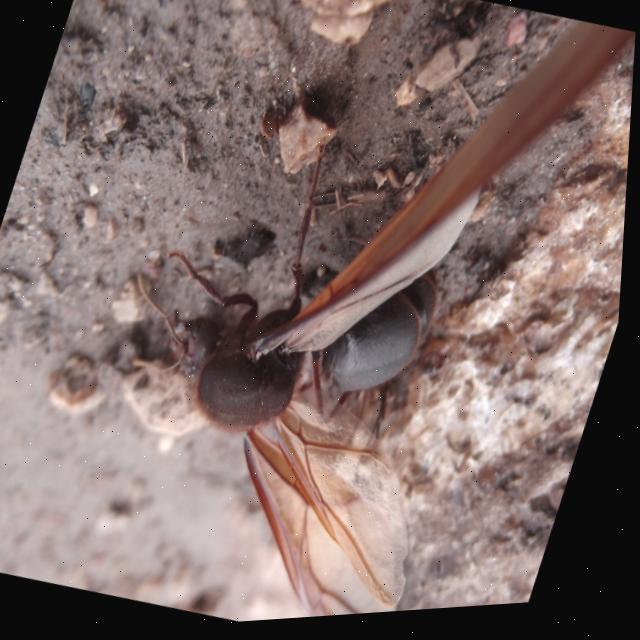Alive-Female-Alate: (40, 0, 640, 636)
